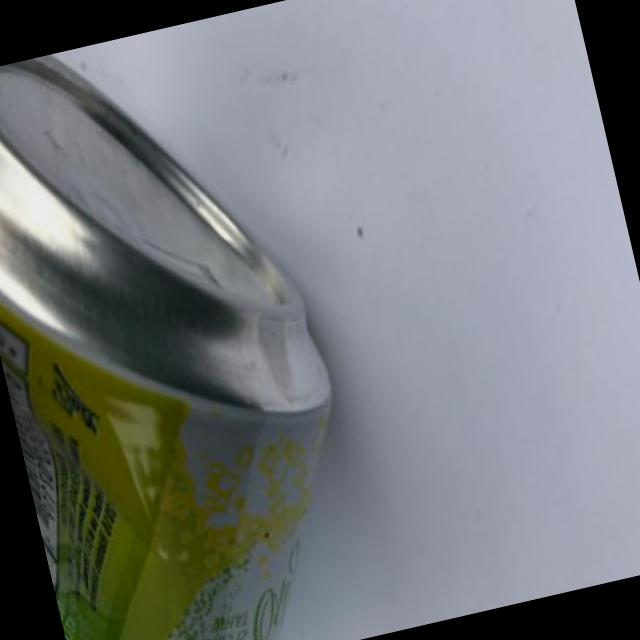metal: (0, 57, 329, 414)
